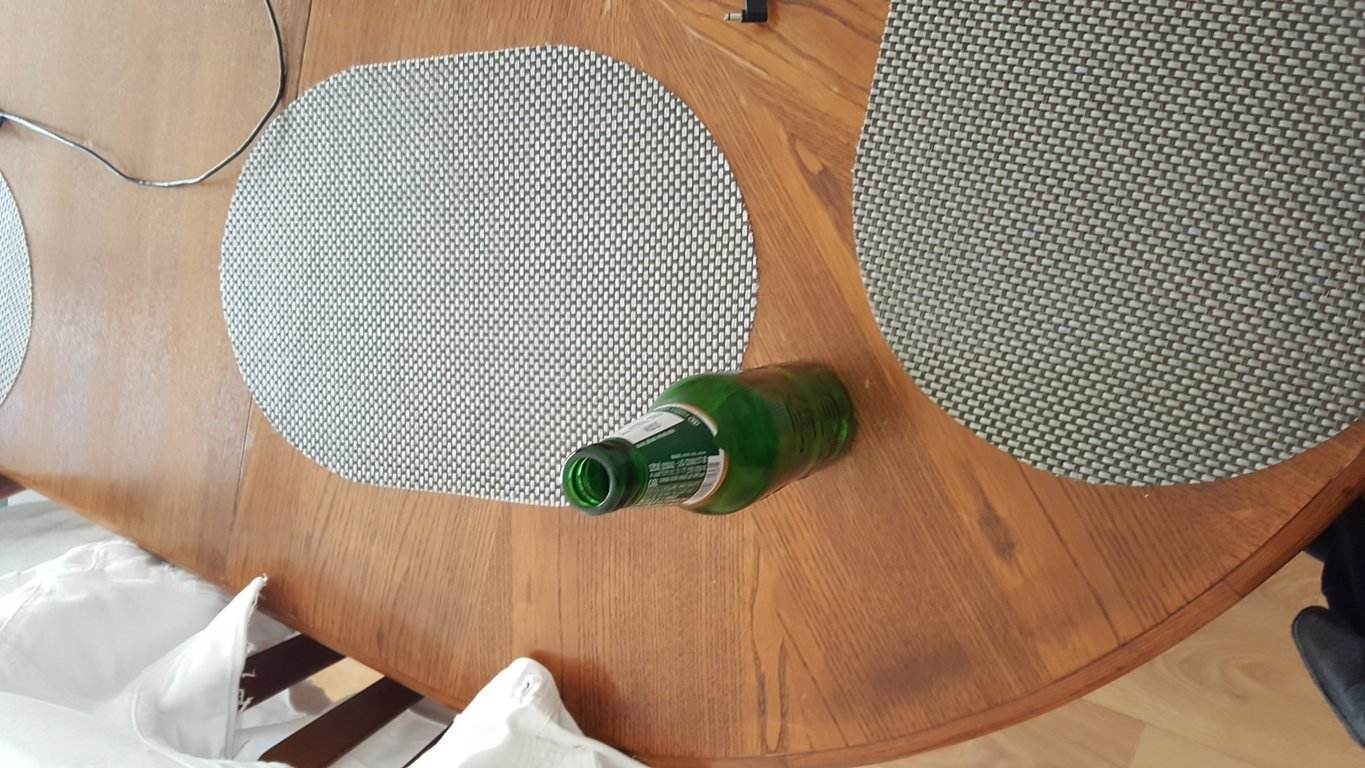beer: (562, 365, 860, 514)
